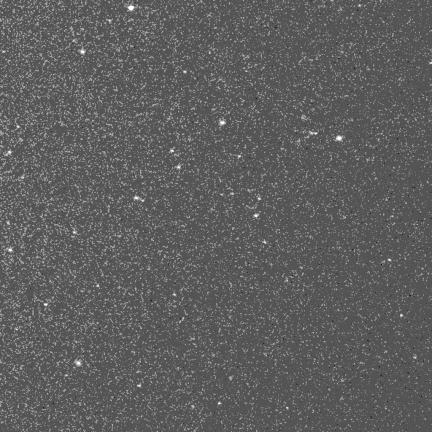blob: (75, 360, 81, 366), (219, 120, 226, 125), (336, 136, 342, 141), (128, 5, 134, 10), (8, 150, 13, 155), (80, 49, 85, 54), (176, 165, 181, 170), (134, 196, 140, 200), (254, 214, 259, 218), (73, 230, 77, 234), (400, 314, 404, 318), (238, 155, 242, 159), (138, 384, 142, 388), (170, 149, 174, 153), (7, 222, 11, 226), (8, 248, 12, 252), (96, 284, 100, 288), (108, 19, 112, 23), (258, 197, 262, 201), (44, 303, 48, 306), (183, 71, 187, 74), (218, 402, 222, 405), (230, 192, 234, 195), (388, 258, 391, 261), (414, 355, 416, 359), (192, 405, 194, 409)
